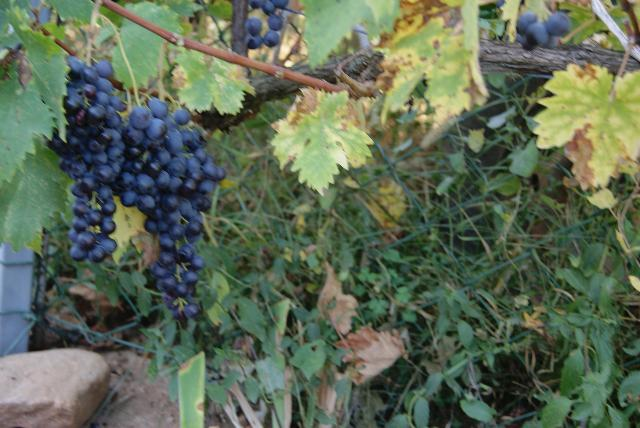grapes: (120, 98, 226, 320), (49, 56, 124, 262)
